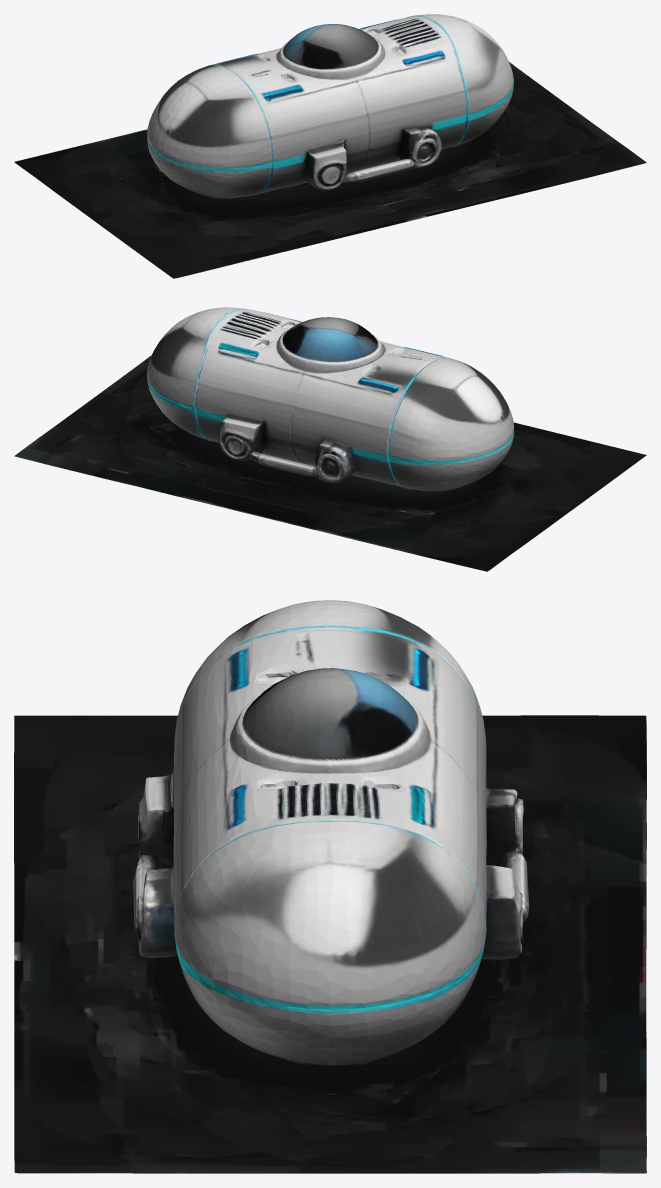
The model's file is poultry_hub.glb.
3 renders of one model, top to bottom at view 1: azimuth 30°, elevation 25°; view 2: azimuth 150°, elevation 25°; view 3: azimuth 270°, elevation 25°, orthographic. The views are drawn at different scales.
Size of the model in its own units: 100 by 27.11 by 58.43.
1 material, 1 textured.
